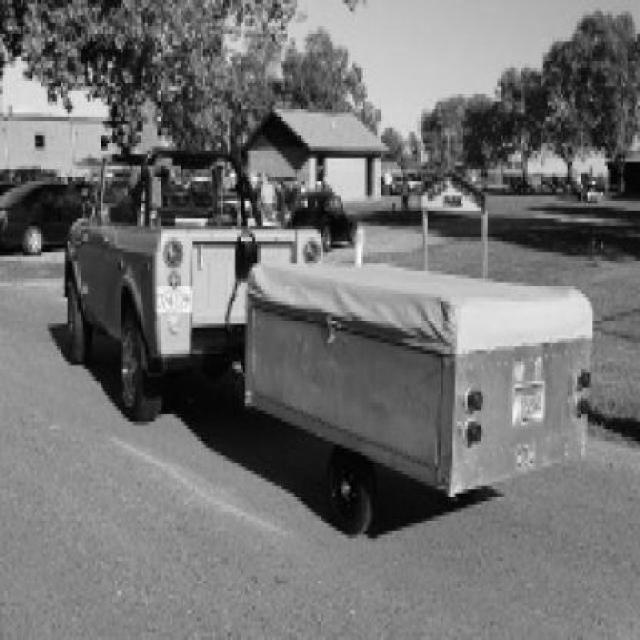Box Truck: (240, 264, 595, 535)
